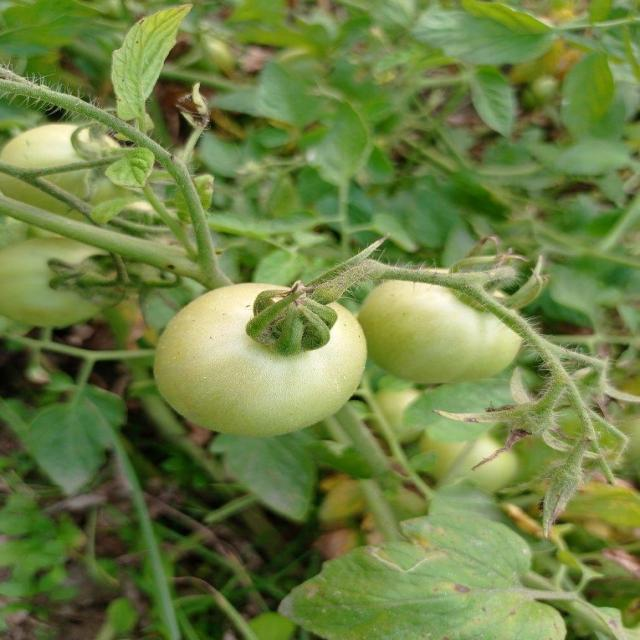Unripe: (158, 280, 366, 439), (363, 267, 523, 388)
